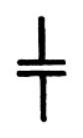Capacitor: (16, 32, 69, 94), (16, 32, 62, 94)
